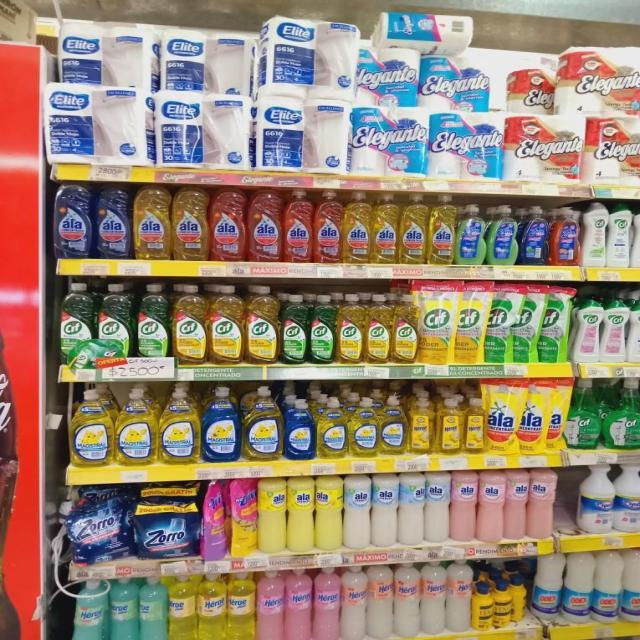ala_conc_amarillo: (133, 184, 171, 260), (172, 186, 208, 261), (343, 190, 371, 264), (428, 193, 455, 266), (400, 192, 427, 264), (372, 192, 398, 264)
ala_conc_azul: (52, 182, 92, 260), (95, 184, 132, 260)
ala_conc_rojo: (210, 187, 247, 262), (248, 187, 282, 263), (283, 188, 313, 264), (314, 189, 342, 263)
ala_crem_amarillo: (258, 476, 287, 554), (315, 474, 343, 551), (288, 475, 314, 554)
ala_crem_blanco: (344, 473, 371, 550), (371, 472, 398, 548), (398, 470, 424, 546), (425, 469, 450, 544)
ala_crem_rosado: (529, 467, 556, 540), (451, 469, 477, 543), (478, 469, 504, 543), (504, 468, 528, 541)
ala_sachet_amarillo: (486, 377, 516, 455), (518, 377, 544, 455), (544, 378, 566, 452)
cif_conc_bot_amarilla: (172, 283, 208, 365), (209, 284, 244, 365), (246, 285, 279, 364), (337, 293, 365, 364), (366, 293, 392, 365), (393, 293, 418, 364)
cif_conc_botella_verde: (57, 281, 95, 368), (96, 282, 134, 362), (136, 282, 170, 359), (281, 293, 308, 365), (310, 294, 336, 364)
cif_conc_sachet_amarillo: (419, 279, 454, 365), (455, 280, 484, 364)
cif_conc_sachet_verde: (540, 284, 570, 363), (485, 281, 513, 363), (513, 283, 539, 362)
heroe: (68, 580, 108, 640), (284, 567, 312, 640), (313, 565, 340, 640), (256, 568, 284, 640), (420, 559, 446, 636), (367, 563, 393, 639), (197, 572, 226, 640), (227, 570, 255, 640), (394, 561, 419, 639), (168, 574, 197, 640), (341, 564, 366, 640), (109, 577, 139, 640), (436, 396, 463, 455), (464, 398, 485, 454)
magistral_con_amarillo: (69, 388, 113, 468), (158, 383, 200, 465), (115, 386, 157, 465), (242, 386, 282, 462), (316, 396, 348, 459), (349, 397, 379, 458), (380, 396, 407, 456)
magistral_con_azul: (202, 385, 240, 463), (284, 398, 315, 460)
zorro: (487, 204, 518, 265), (456, 203, 486, 265), (550, 206, 580, 266), (520, 204, 548, 266)
